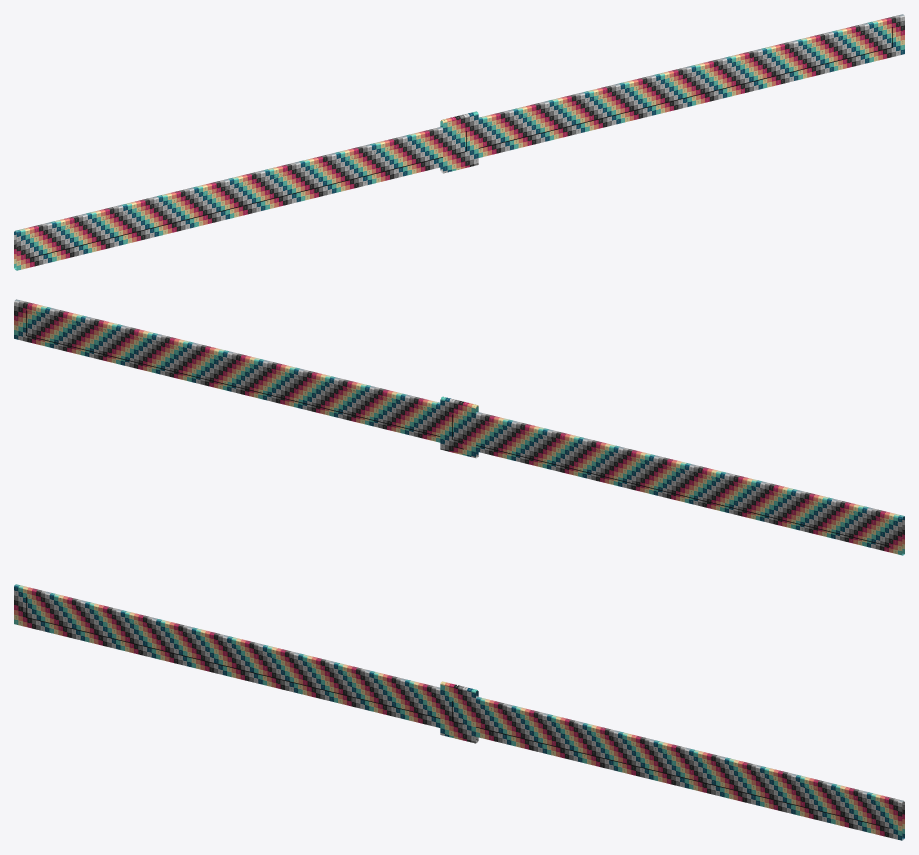
Rendered from panelLightSection_manMorph.glb.
3 views of the same model, one above another, from view 1: azimuth 30°, elevation 25°; view 2: azimuth 150°, elevation 25°; view 3: azimuth 330°, elevation 25° (orthographic).
Parts seen in each view (by area): view 1: panelLightSectionFrameMaxWidth, panelLightSectionGlassMaxWidth, panelLightSectionRubberMaxWidth, panelLightSectionFrameMaxHeight; view 2: panelLightSectionGlassMaxWidth, panelLightSectionFrameMaxWidth, panelLightSectionRubberMaxWidth, panelLightSectionFrameMaxHeight, panelLightSectionFrame; view 3: panelLightSectionFrameMaxWidth, panelLightSectionGlassMaxWidth, panelLightSectionFrameMaxHeight, panelLightSectionRubberMaxWidth, panelLightSectionFrame.
Part boxes in pixels (x1,y1,x2,y2): panelLightSectionFrameMaxWidth: (14,14,904,270); panelLightSectionGlassMaxWidth: (28,27,892,257); panelLightSectionRubberMaxWidth: (28,27,892,258); panelLightSectionFrameMaxHeight: (440,111,478,173); panelLightSectionGlassMaxWidth: (26,311,890,545); panelLightSectionFrameMaxWidth: (14,299,904,555); panelLightSectionRubberMaxWidth: (26,310,890,546); panelLightSectionFrameMaxHeight: (440,396,478,458); panelLightSectionFrame: (440,409,477,449); panelLightSectionFrameMaxWidth: (14,584,904,840); panelLightSectionGlassMaxWidth: (26,597,890,827); panelLightSectionFrameMaxHeight: (440,681,478,743); panelLightSectionRubberMaxWidth: (26,597,890,828); panelLightSectionFrame: (440,692,477,734).
Bounding box in the file's own units: 7.5 × 0.42 × 0.04.
3 materials, 2 textured.
